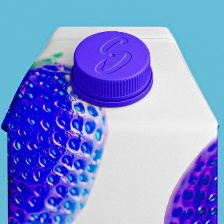carton: (0, 24, 220, 224)
